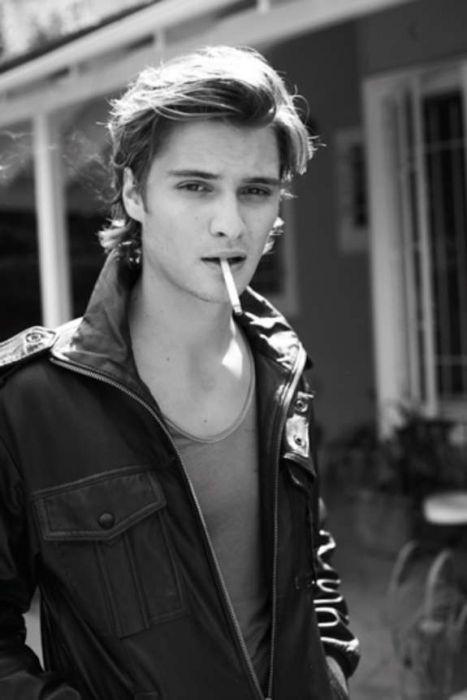cigarette: (220, 257, 242, 316)
